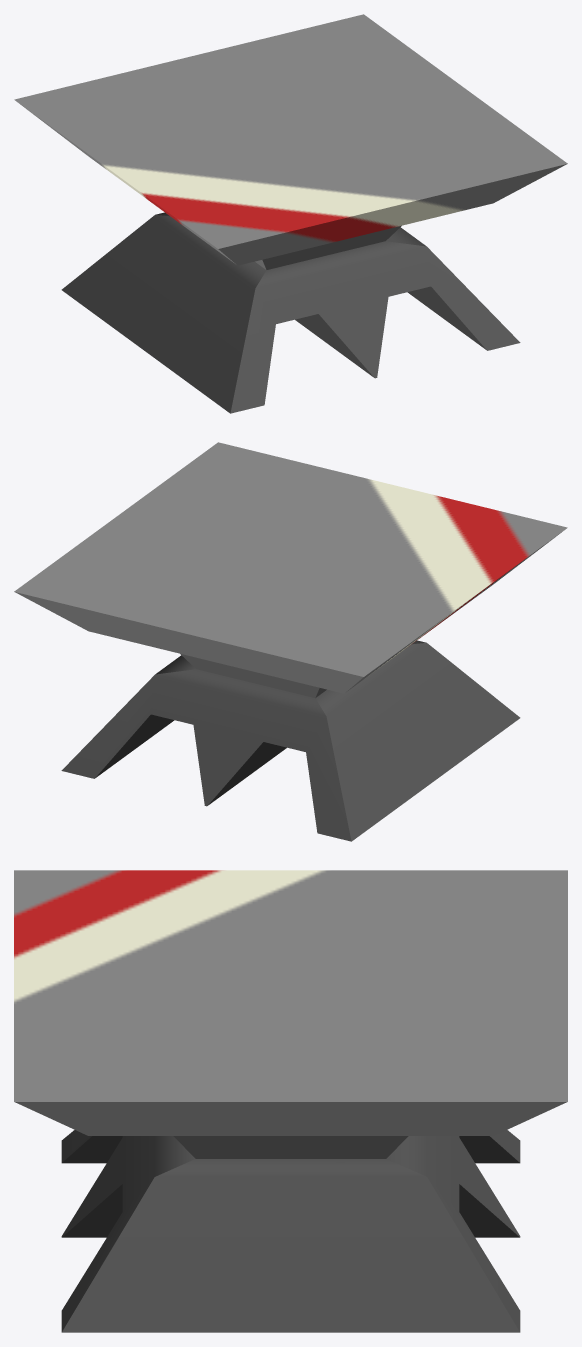
File: Platform_03.fbx
The picture shows the model from 3 angles, top to bottom: view 1: azimuth 30°, elevation 25°; view 2: azimuth 150°, elevation 25°; view 3: azimuth 270°, elevation 25°; orthographic projection. The views are drawn at different scales.
Parts seen in each view (by area): view 1: Platform_03; view 2: Platform_03; view 3: Platform_03.
Part boxes in pixels (<box>): Platform_03: <box>14,14,567,413</box>; Platform_03: <box>14,442,567,841</box>; Platform_03: <box>14,870,567,1332</box>.
Size of the model in its own units: 20.03 by 10.11 by 20.25.
Materials: 1 (1 with a texture image).
